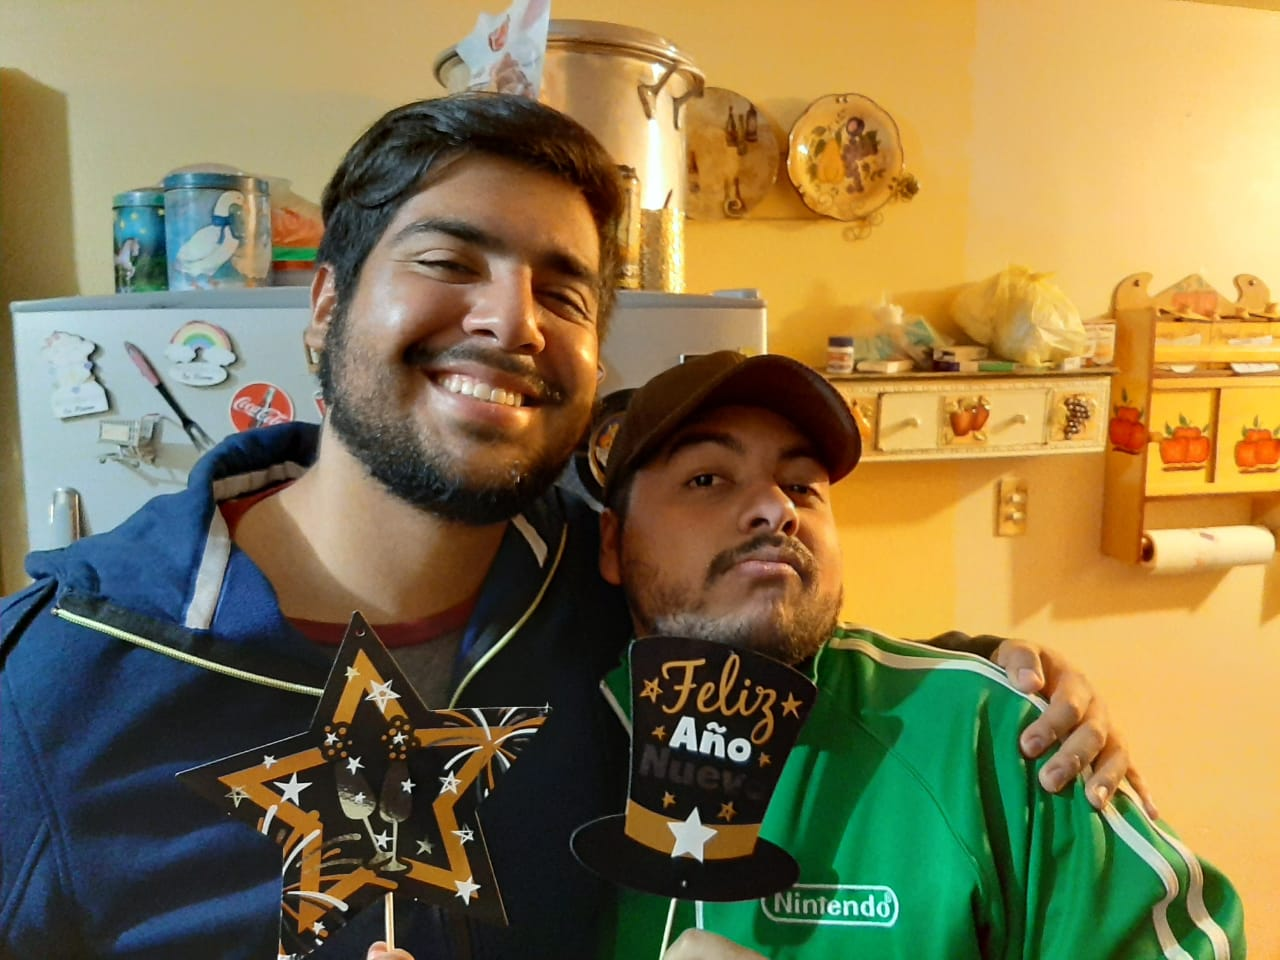Yoshi: (618, 334, 915, 712)
